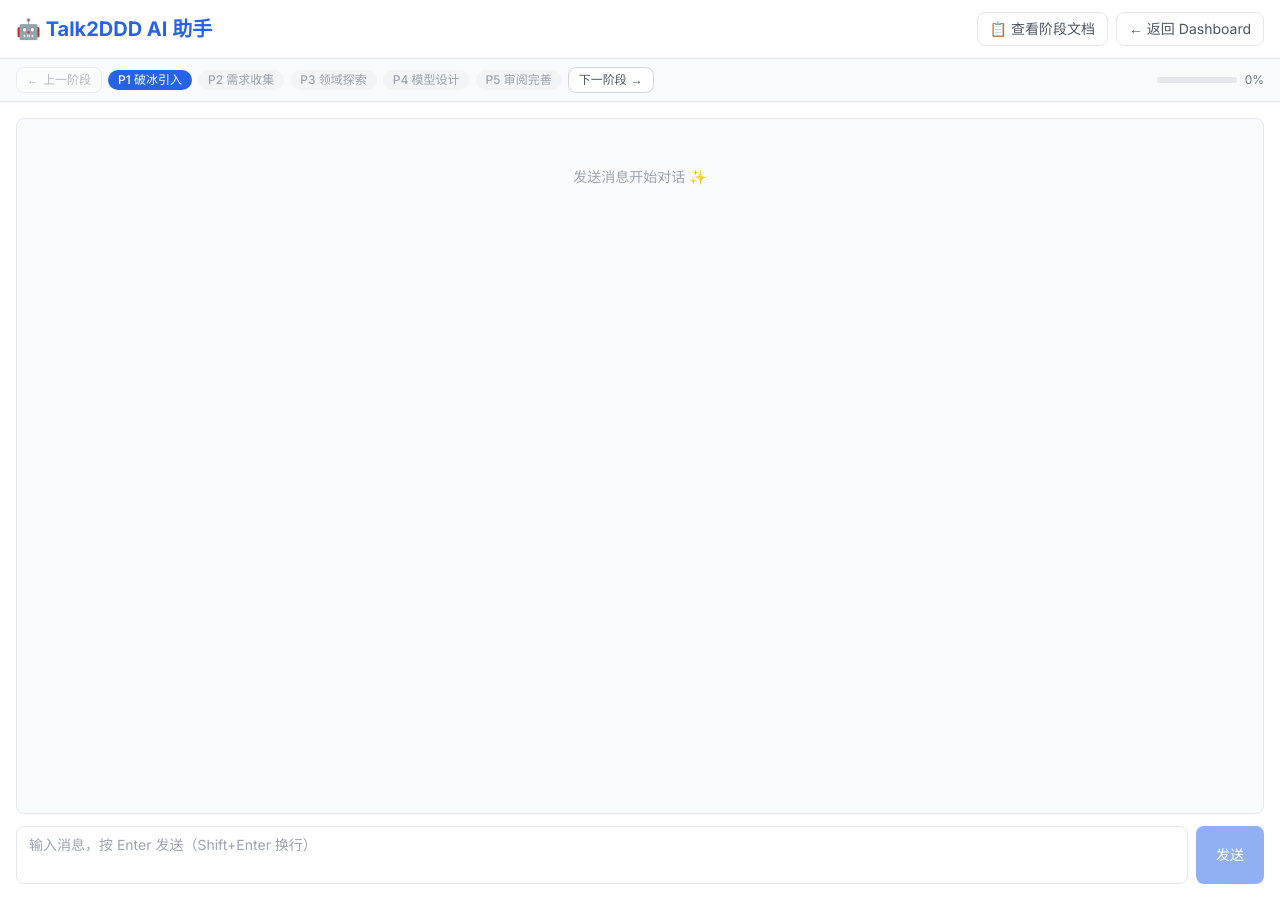
Scenario: ChatPage › sends a message and displays the reply
Type "Hello" into the text box named "message input" at (602, 855), box [16,826,1188,884]
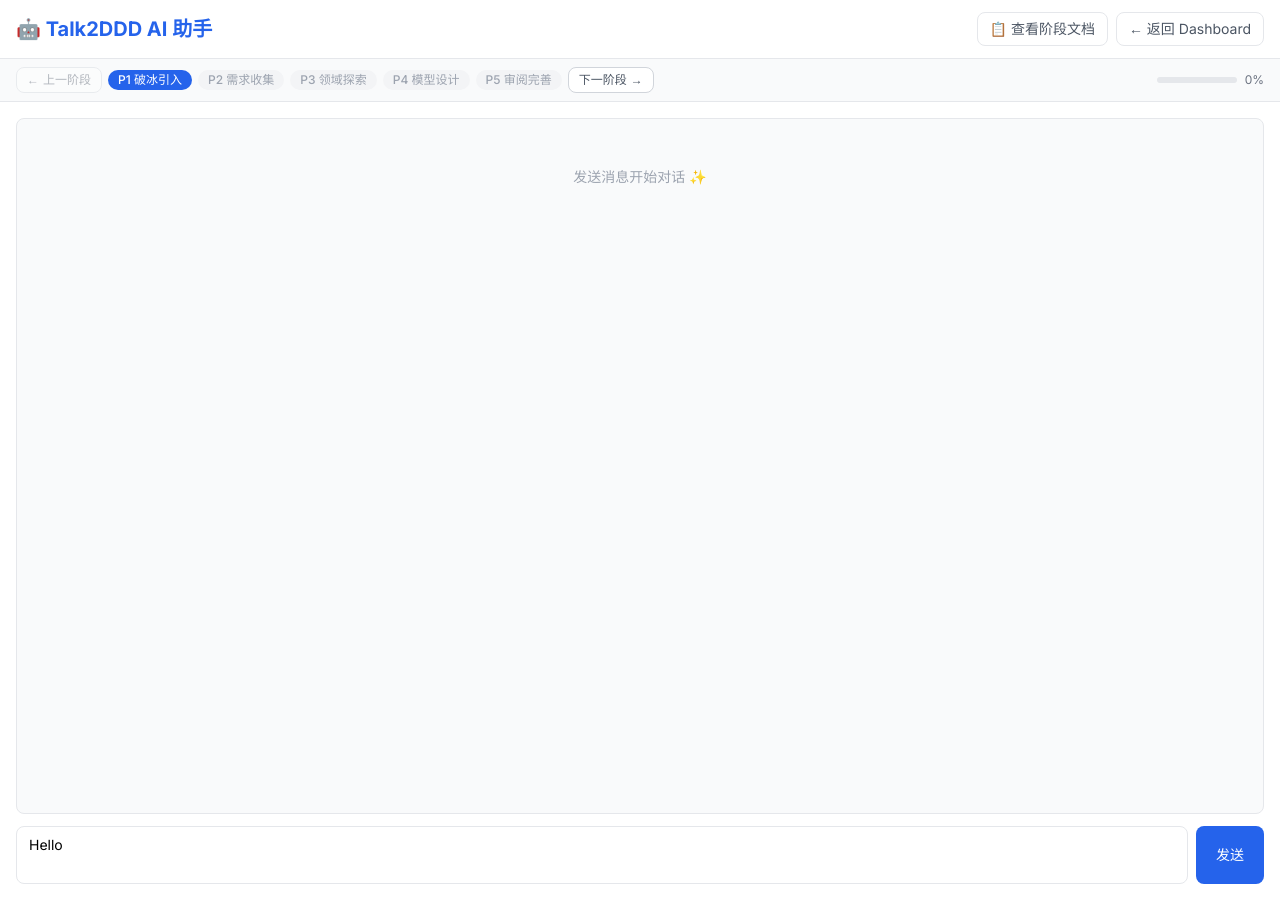
Click the button with aria-label "send message" at (1230, 855), box [1196,826,1264,884]
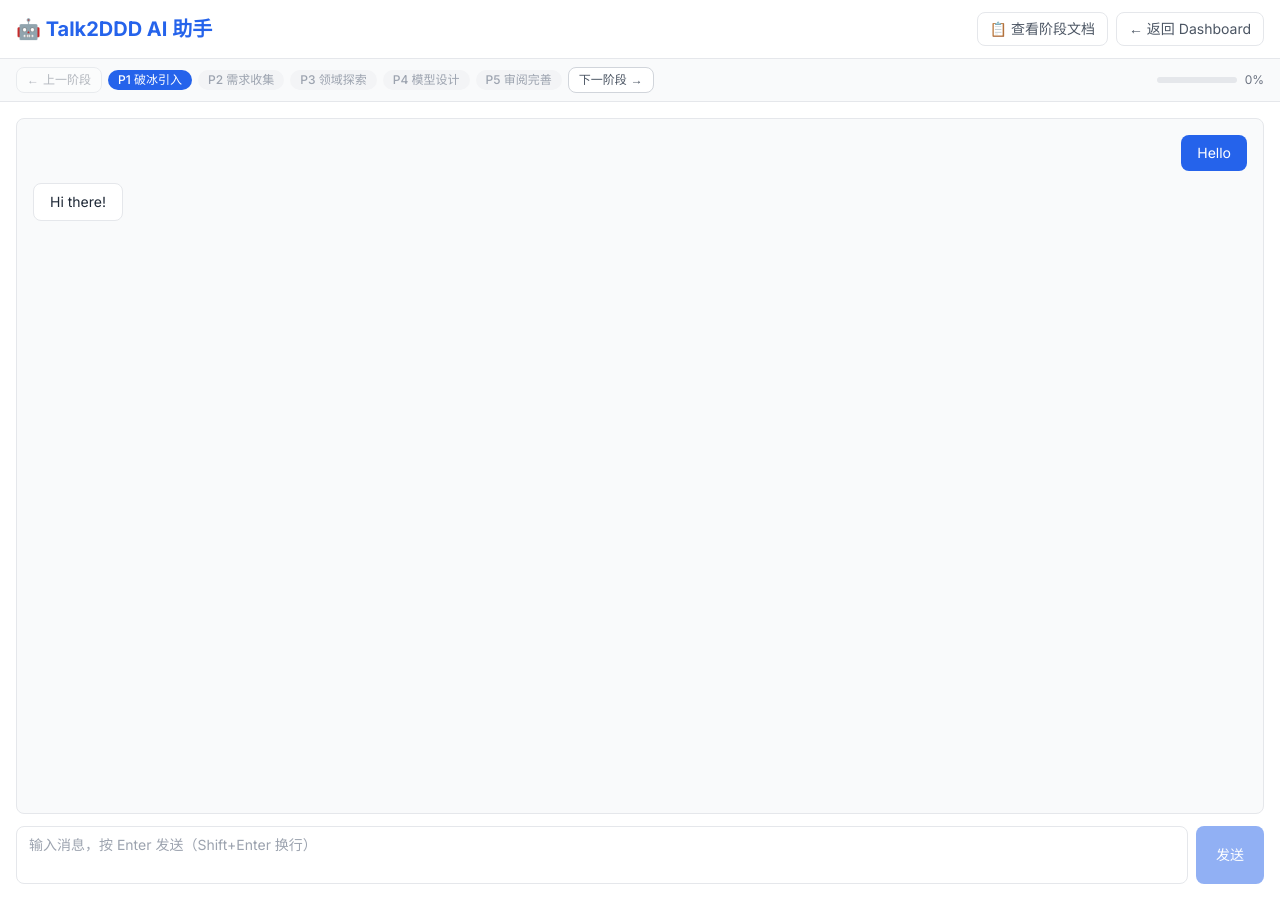
Result: the text "Hello" is shown at [1181,135,1247,171]
Result: the text "Hi there!" is shown at [33,183,123,221]
